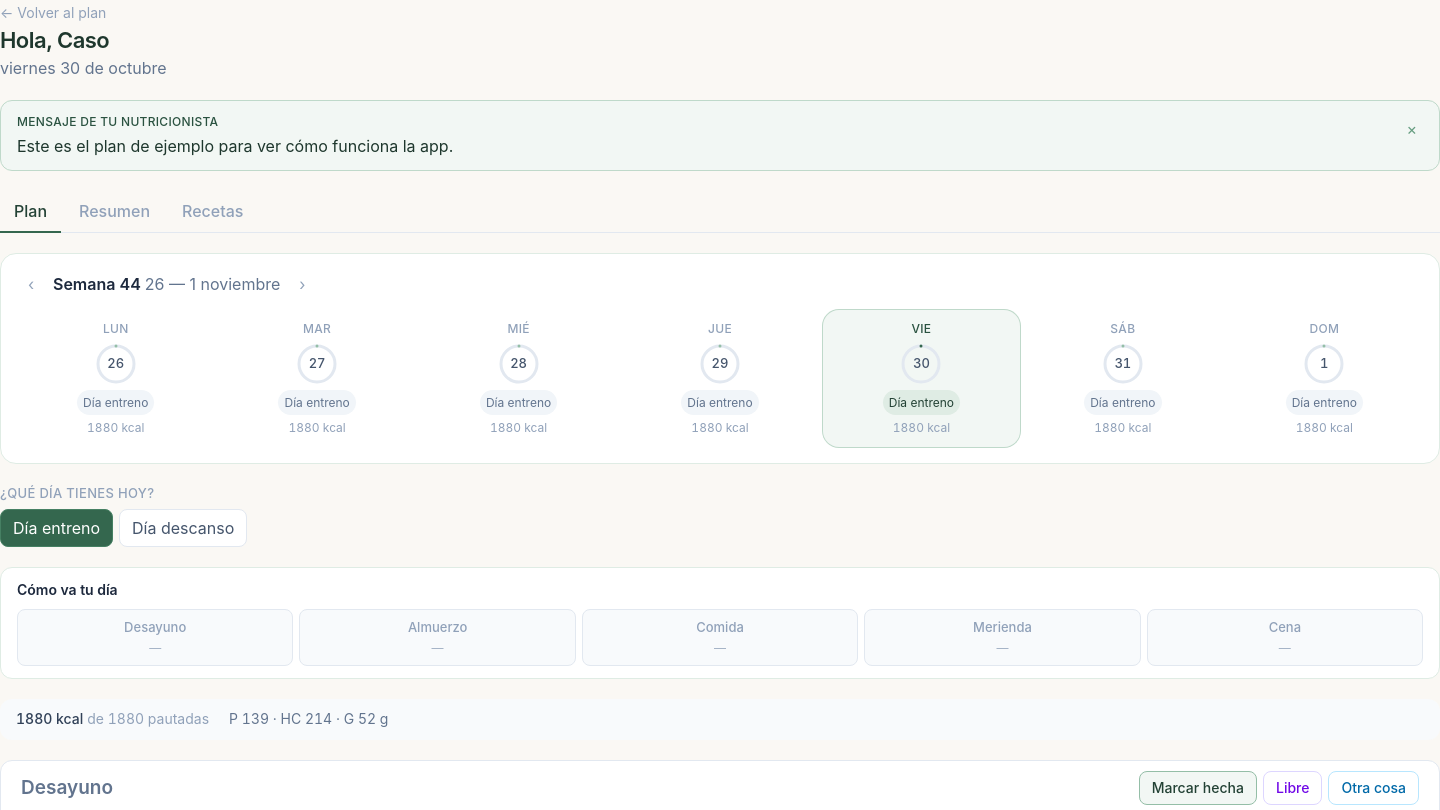
Scenario: Las cinco pestañas › pero se llega a él desde «Recetas», con su para qué
The width and height of the screenshot is (1440, 810).
Click the button "Recetas": (213, 212) top-left (168, 191), bottom-right (257, 233)
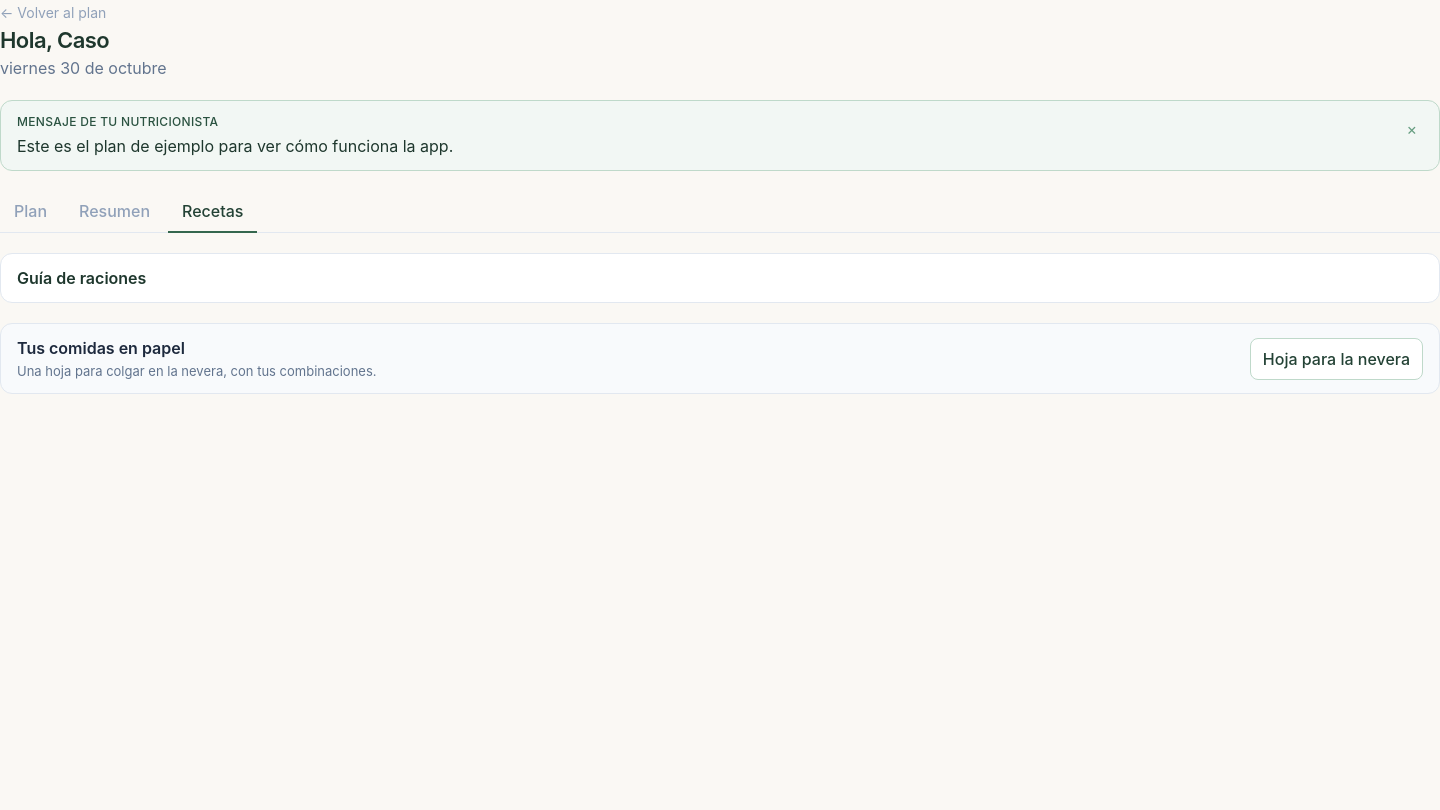
Expected: the text "Tus comidas en papel" is shown, top-left (17, 338), bottom-right (185, 358)
Expected: the button "Hoja para la nevera" is shown, top-left (1250, 338), bottom-right (1423, 380)
